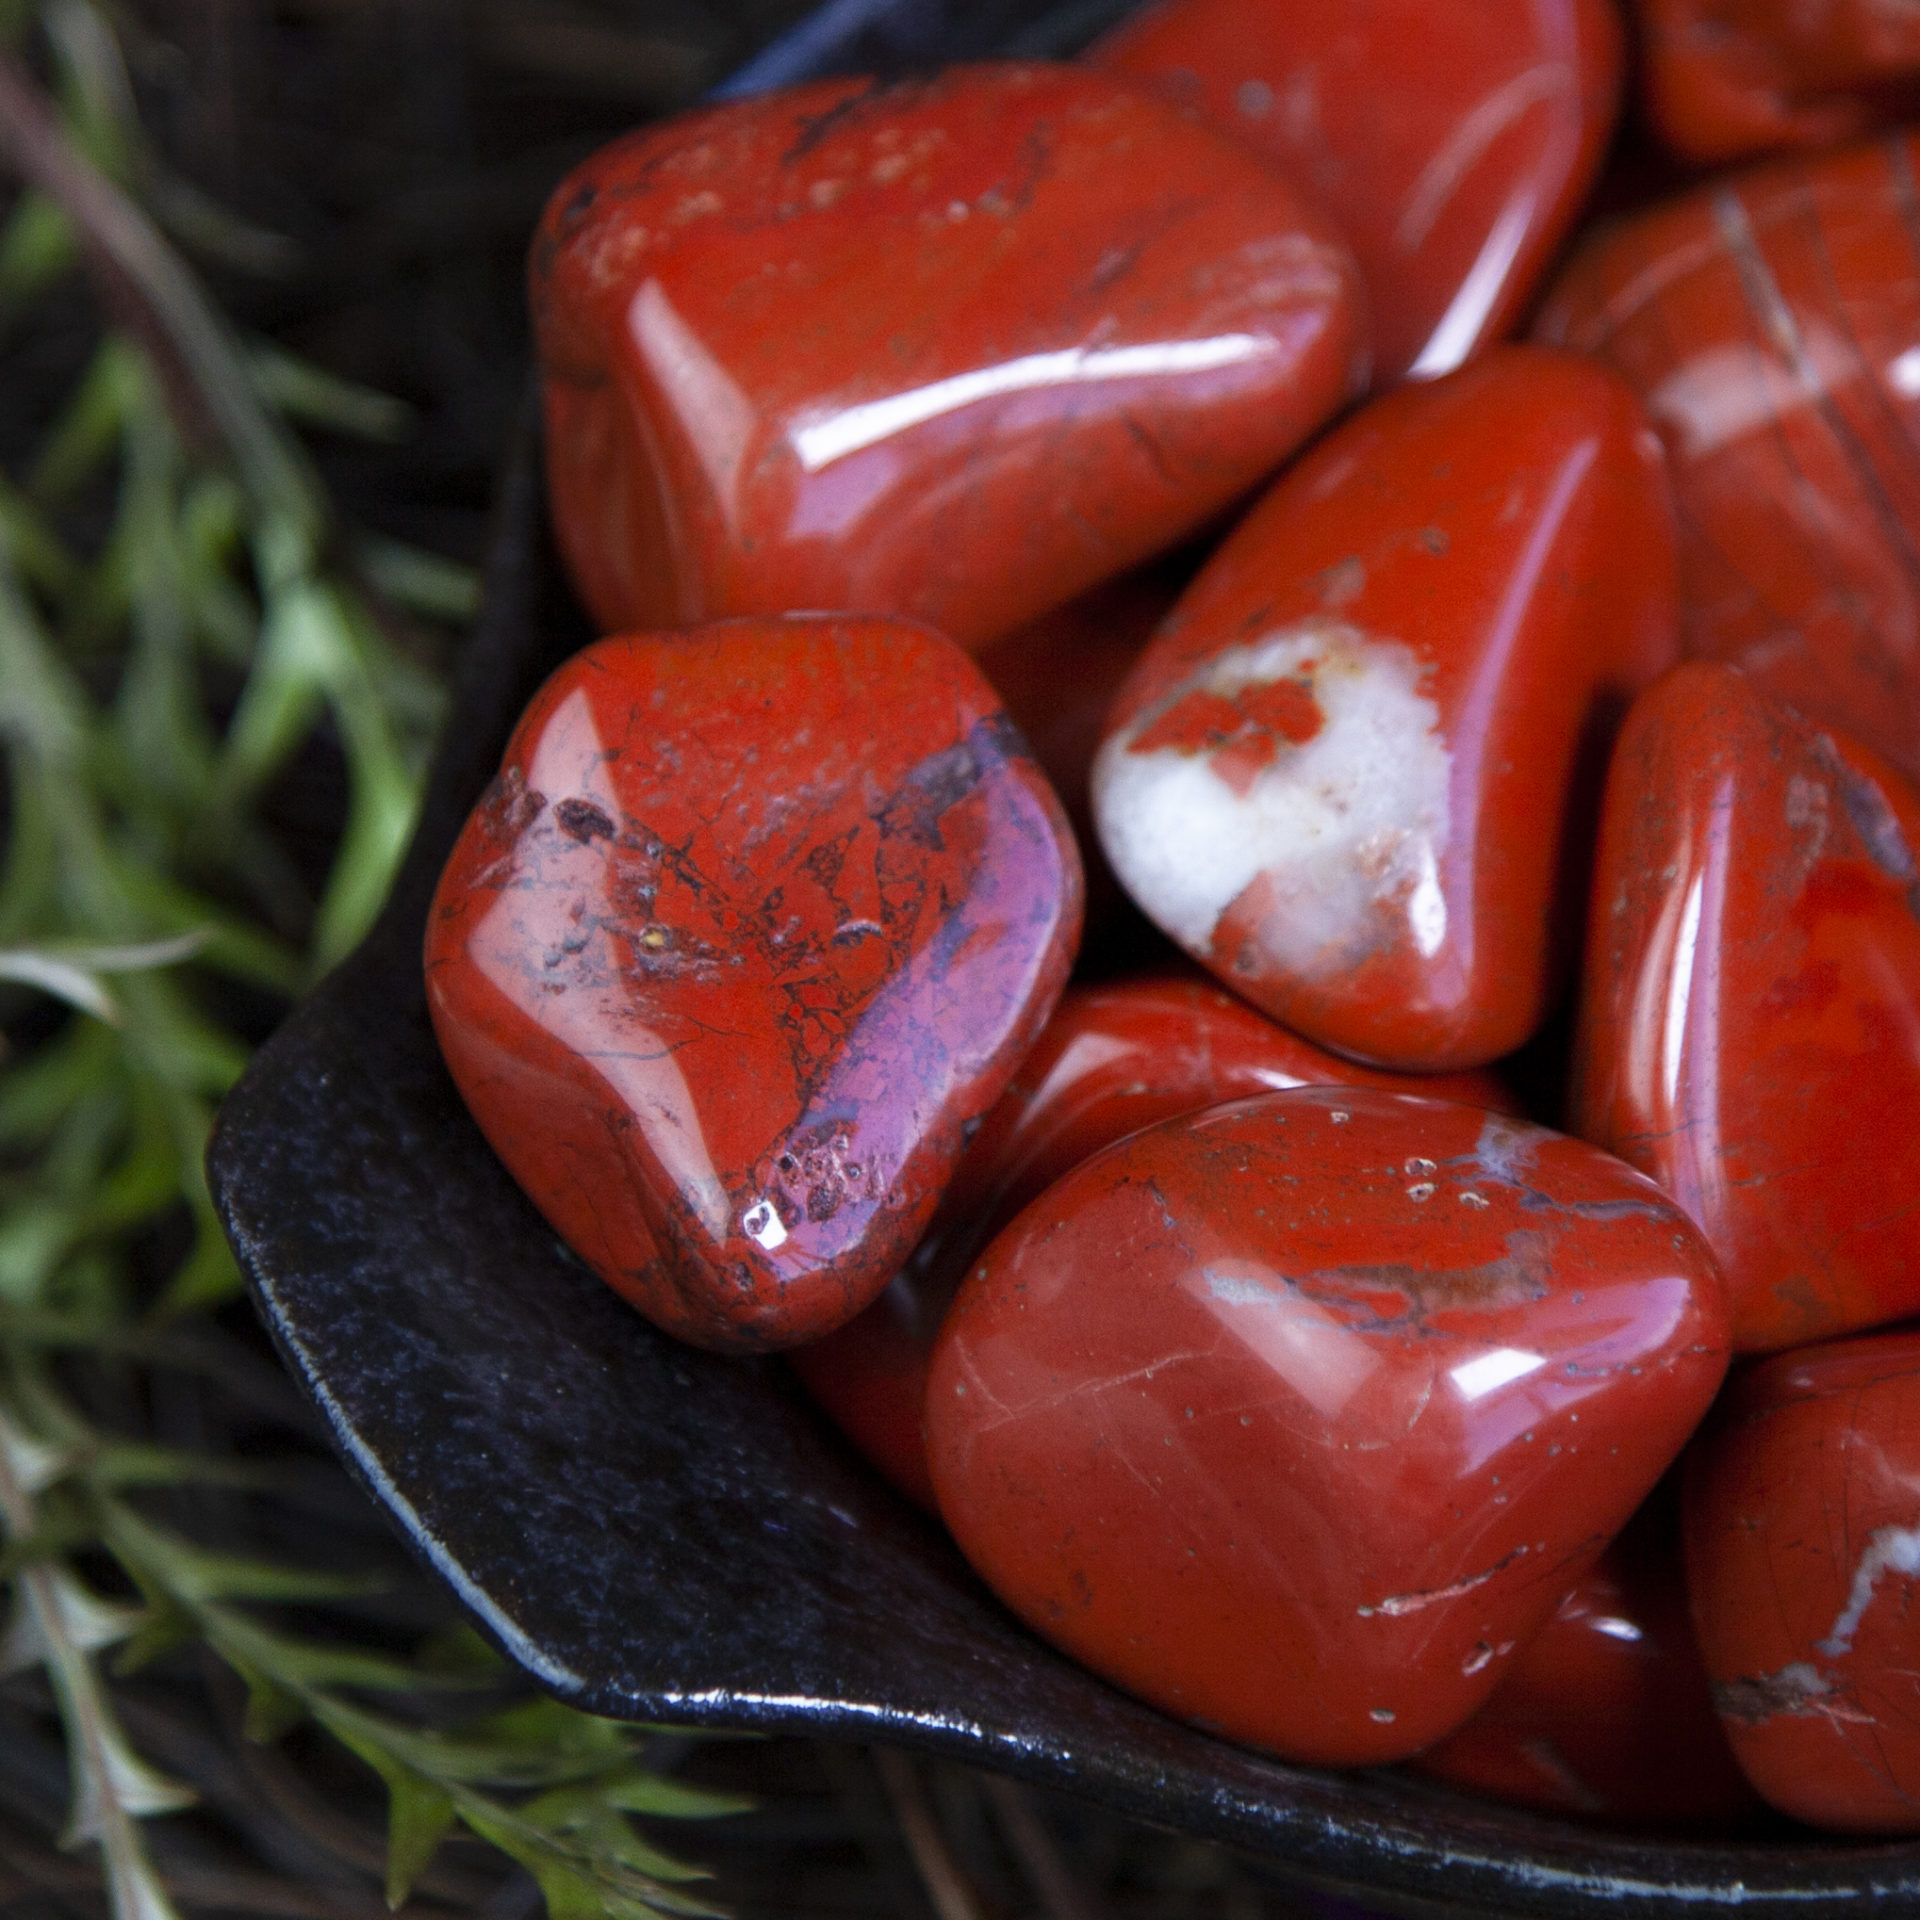Red_Jasper: (415, 46, 1920, 1769)
